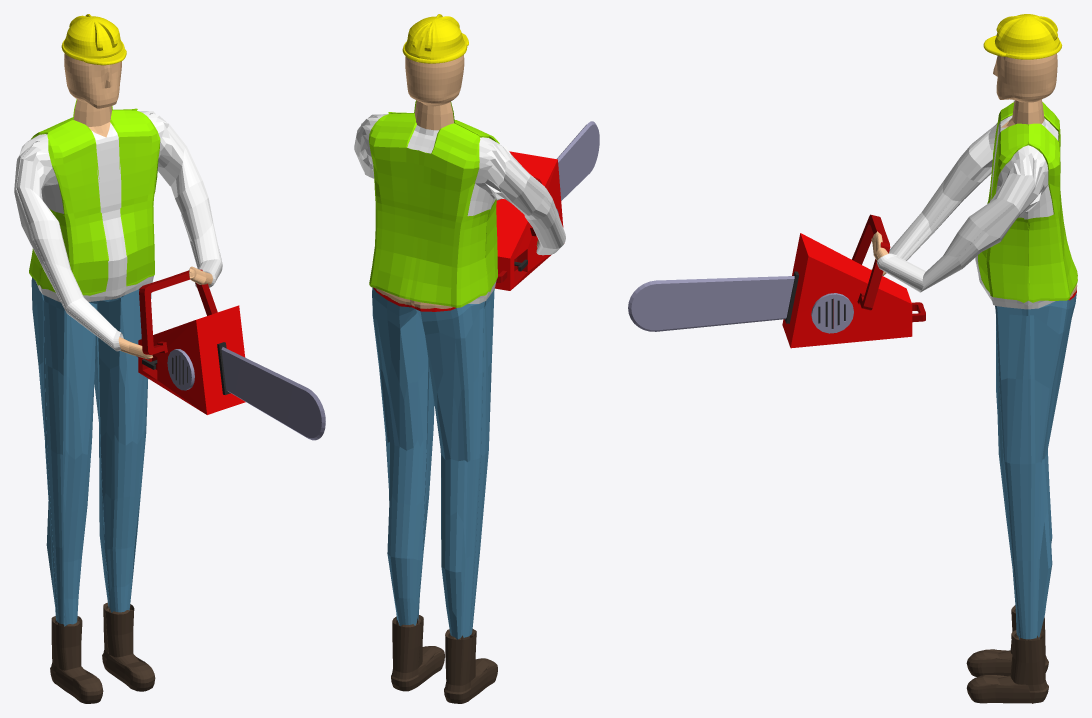
The model's file is chainsaw man.FBX.
3 views of the same model, side by side, from view 1: azimuth 30°, elevation 25°; view 2: azimuth 150°, elevation 25°; view 3: azimuth 270°, elevation 25° (orthographic). The views are drawn at different scales.
Visible parts, largest first — view 1: man, Box001; view 2: man, Box001; view 3: man, Box001.
Part boxes in pixels (x1,y1,x2,y2): man: (14, 14, 222, 703); Box001: (136, 269, 325, 440); man: (354, 14, 565, 703); Box001: (494, 121, 599, 290); man: (871, 14, 1077, 703); Box001: (628, 214, 925, 348).
Bounding box in the file's own units: 21.1 × 76.34 × 46.42.
